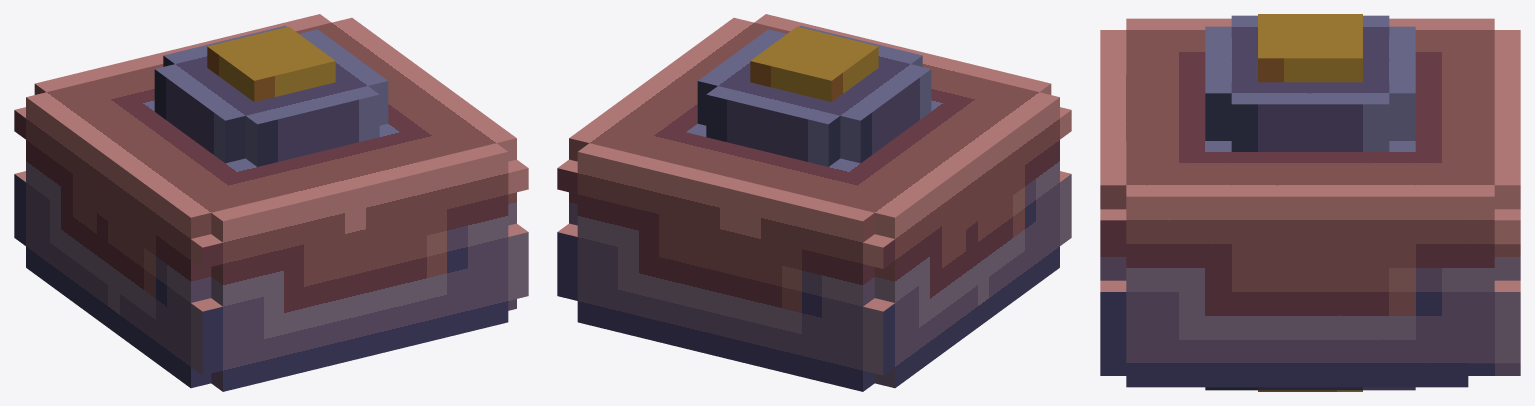
Rendered from rotato_1x1ao.fezao.glb.
The picture shows the model from 3 angles, left to right: view 1: azimuth 30°, elevation 25°; view 2: azimuth 150°, elevation 25°; view 3: azimuth 270°, elevation 25°; orthographic projection. The views are drawn at different scales.
Visible parts, largest first — view 1: ROTATO_1X1AO; view 2: ROTATO_1X1AO; view 3: ROTATO_1X1AO.
Boxes of the visible parts, left/top/right/bottom form: ROTATO_1X1AO: left=14, top=14, right=528, bottom=391; ROTATO_1X1AO: left=557, top=14, right=1071, bottom=391; ROTATO_1X1AO: left=1100, top=14, right=1520, bottom=391.
Size of the model in its own units: 1 by 0.875 by 1.
Materials: 1 (1 with a texture image).
